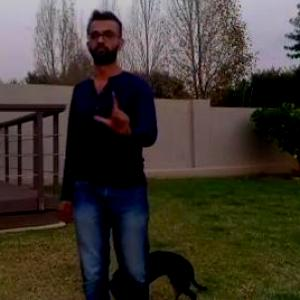land_hand: (92, 80, 132, 138)
